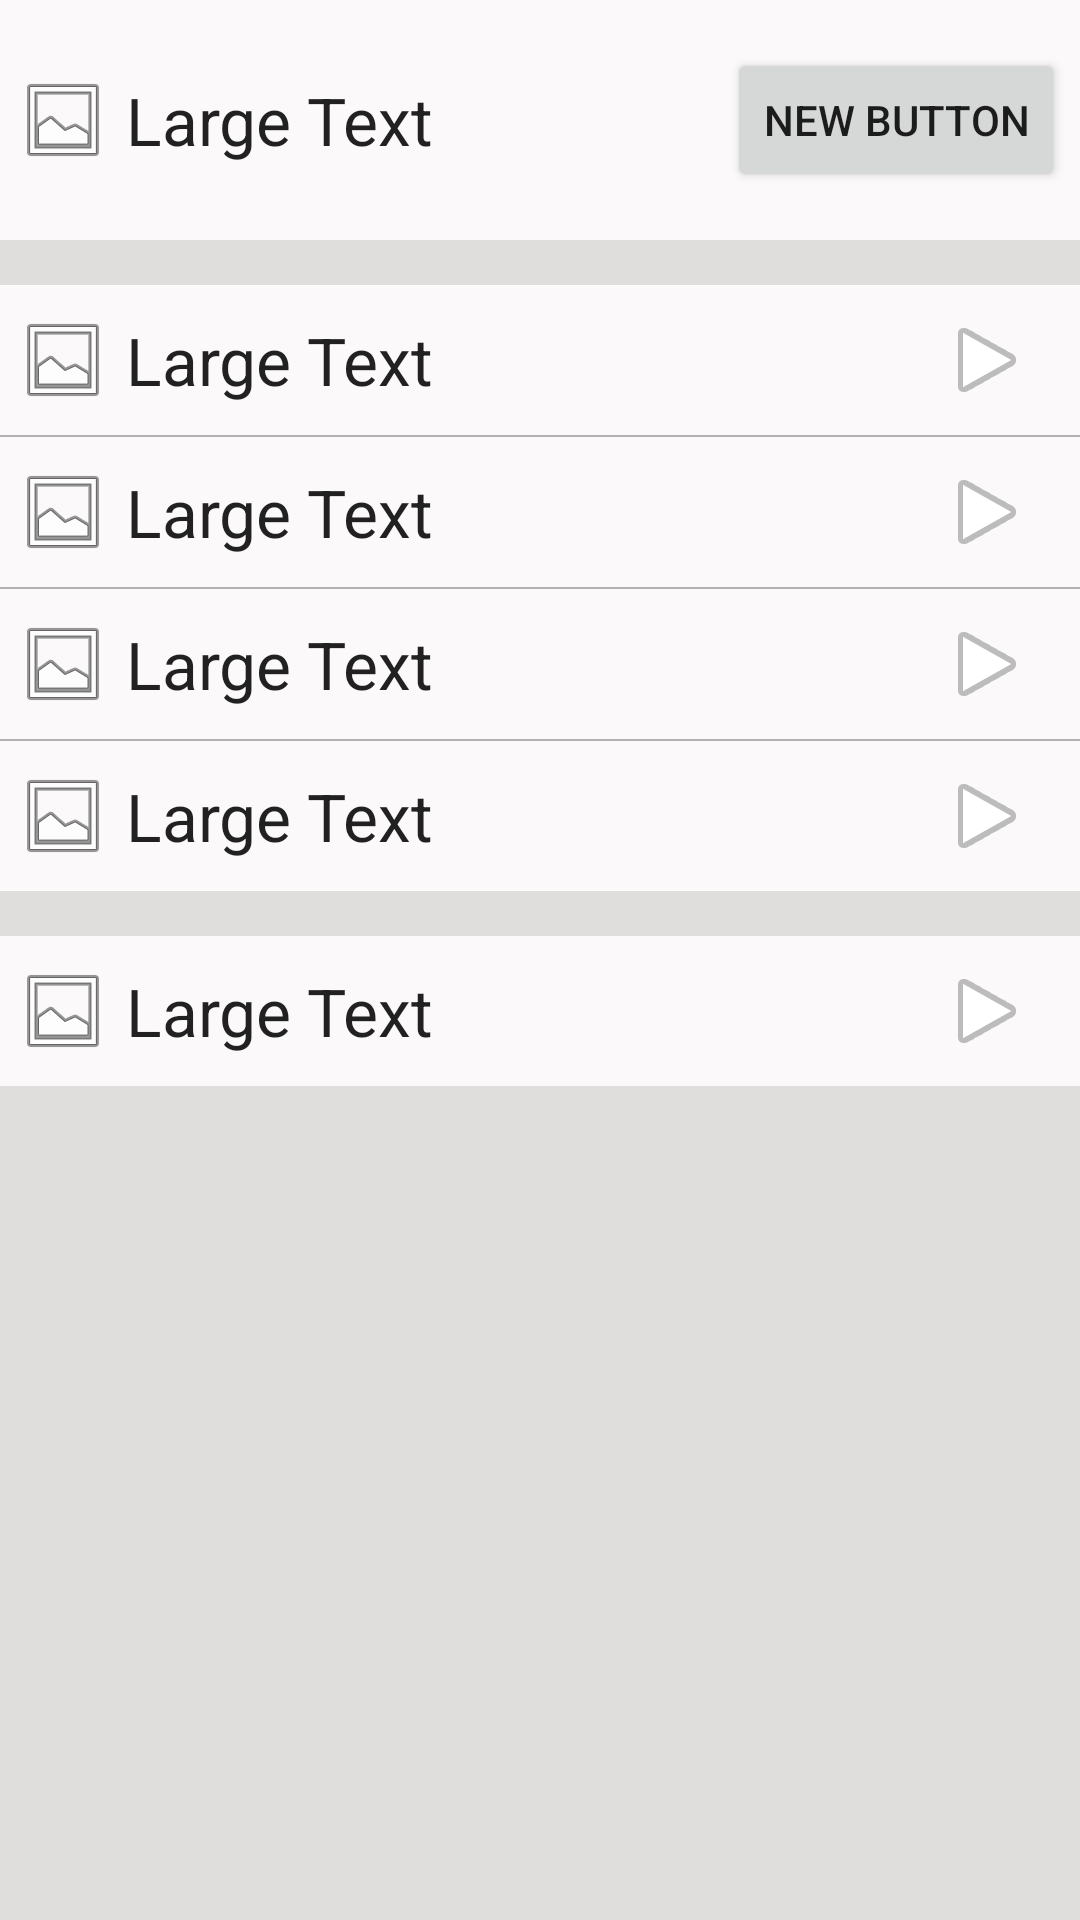

Where icons sit on this 1080x1920 app screen, as (x1, y1, x2, y2):
gallery: (27, 84, 99, 156), (27, 324, 99, 396), (27, 476, 99, 548), (27, 628, 99, 700), (27, 780, 99, 852), (27, 975, 99, 1047)
play: (958, 328, 1016, 392), (958, 480, 1016, 544), (958, 632, 1016, 696), (958, 784, 1016, 848), (958, 979, 1016, 1043)
